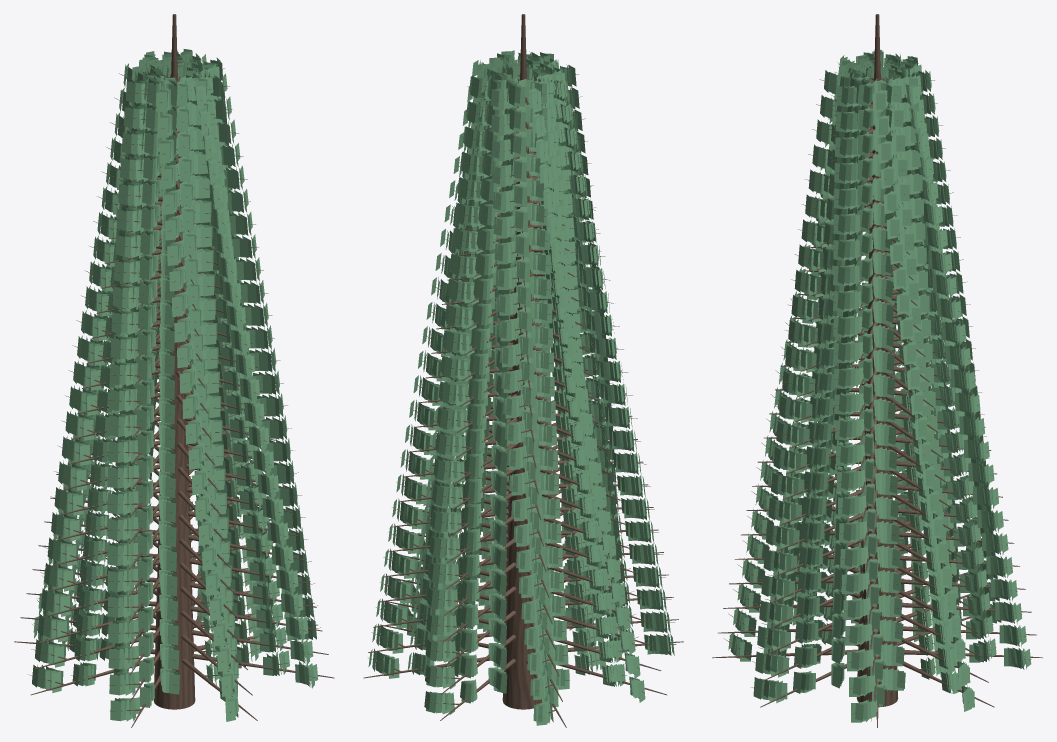
Rendered from tree_fir_hero01.glb.
3 views of the same model, side by side, from view 1: azimuth 30°, elevation 25°; view 2: azimuth 150°, elevation 25°; view 3: azimuth 270°, elevation 25° (orthographic).
Parts seen in each view (by area): view 1: needle_clusters, primary_branches, trunk, twigs; view 2: needle_clusters, primary_branches, trunk, twigs; view 3: needle_clusters, primary_branches, trunk, twigs.
Boxes of the visible parts, x1,y1,x2,y2 form: needle_clusters: (32,49,318,721); primary_branches: (14,77,334,727); trunk: (153,14,195,709); twigs: (28,68,320,712); needle_clusters: (368,50,674,725); primary_branches: (363,79,683,727); trunk: (502,14,542,709); twigs: (368,74,676,716); needle_clusters: (728,50,1031,722); primary_branches: (712,77,1042,727); trunk: (856,14,898,707); twigs: (723,61,1031,714).
Size of the model in its own units: 5.43 by 12.4 by 5.43.
2 materials, 2 textured.
